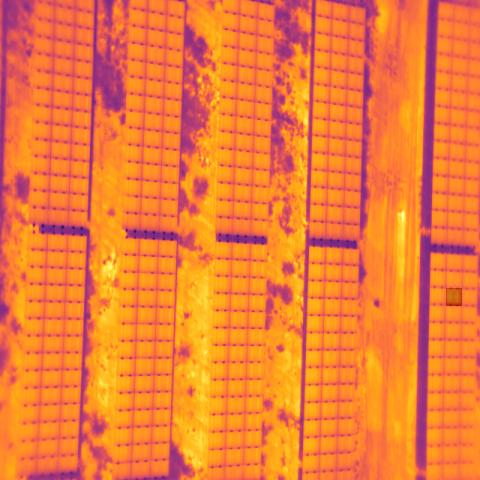fault: (446, 288, 462, 306)
